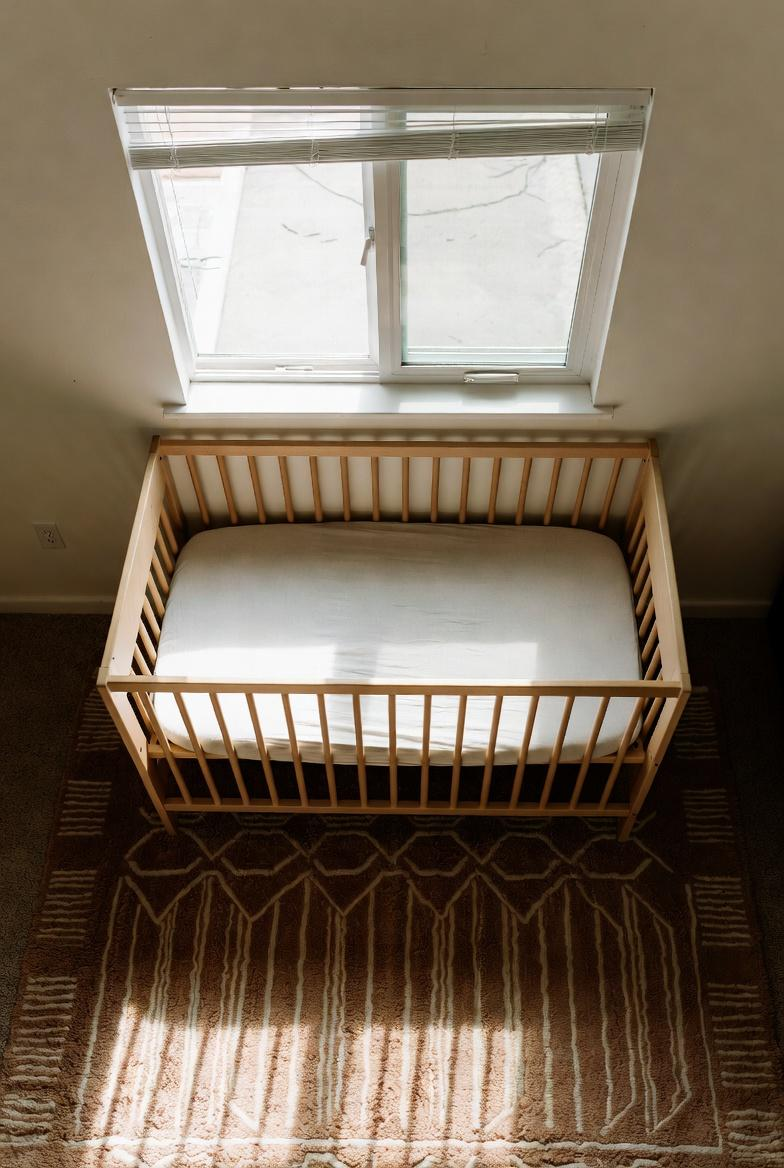crib: (98, 438, 690, 839)
